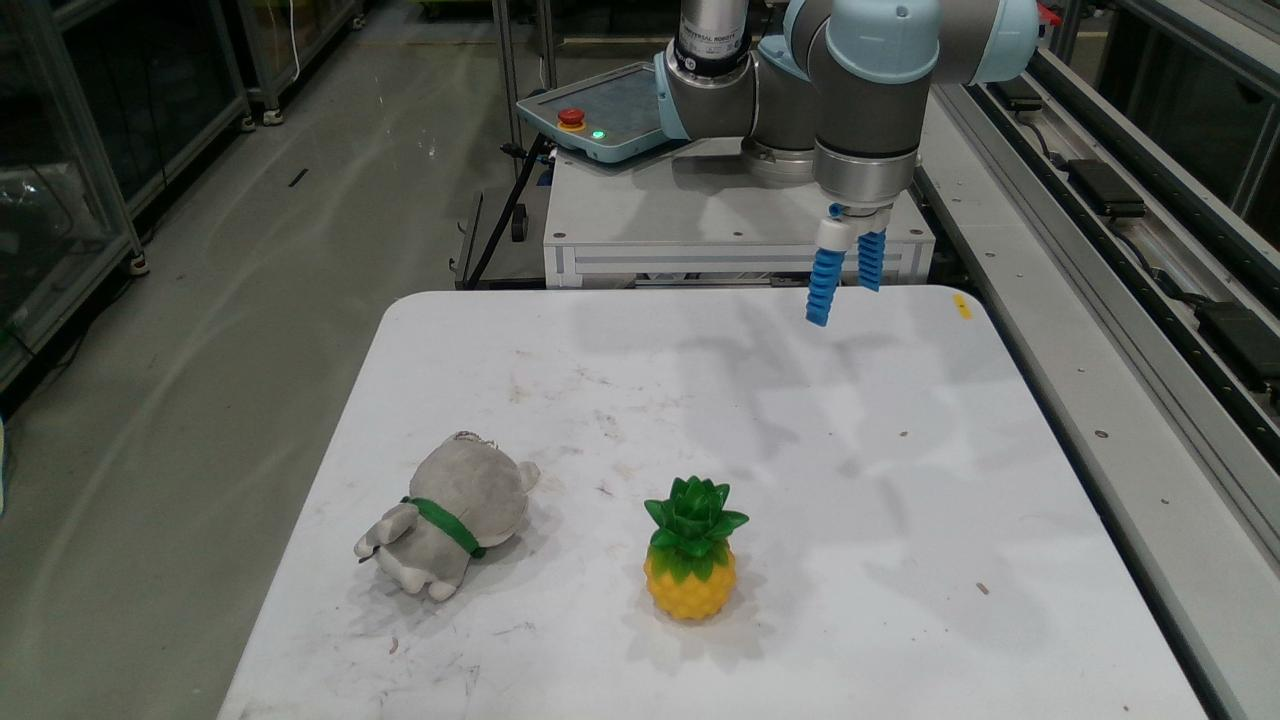UR5: (654, 0, 1040, 251)
gripper_left: (807, 247, 843, 325)
gripper_right: (858, 230, 885, 290)
target: (353, 432, 539, 601), (644, 476, 748, 619)
